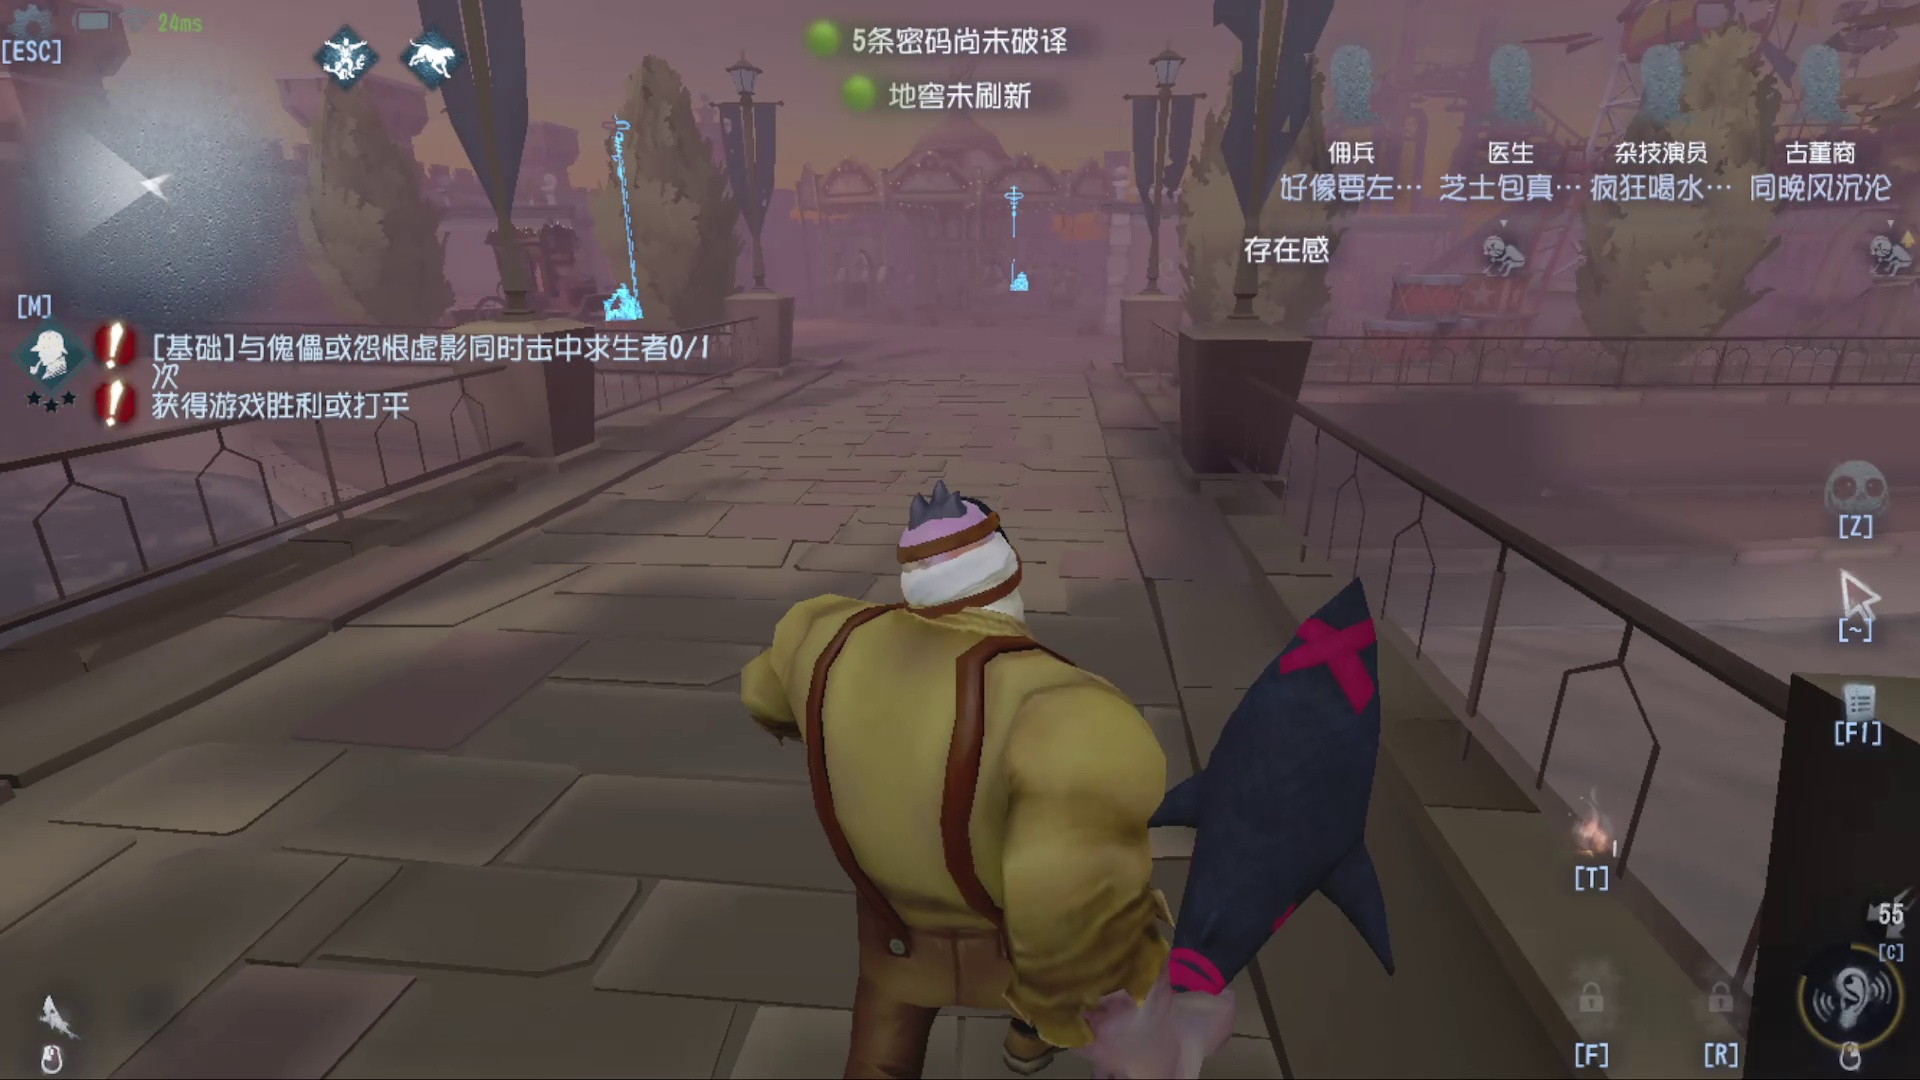密码机: (582, 111, 671, 335), (992, 166, 1040, 319)
